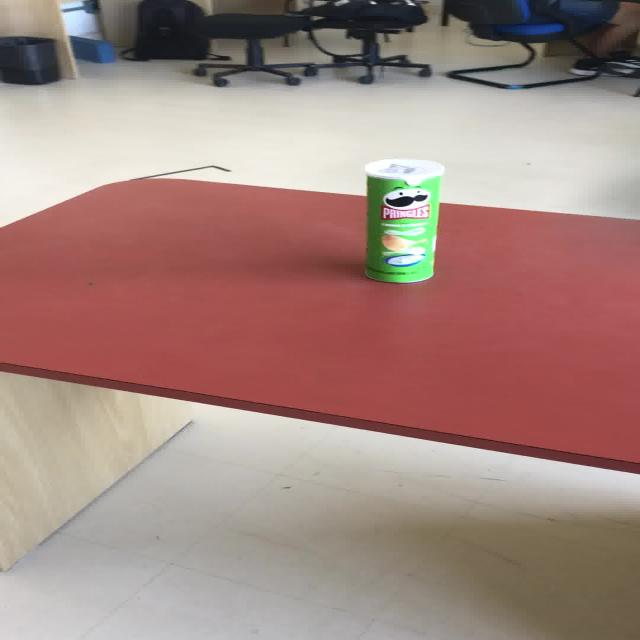pringles: (362, 157, 444, 283)
